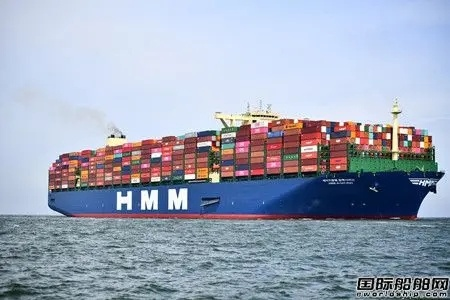Cargoship: (41, 94, 450, 220)
